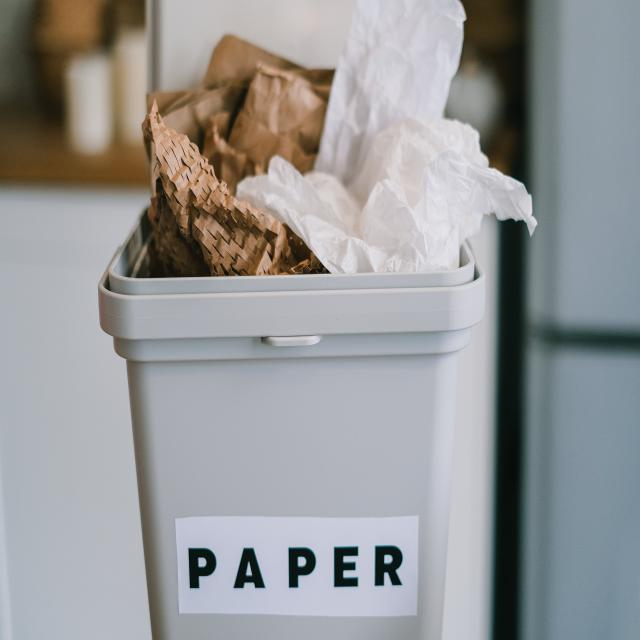paper: (317, 88, 444, 257)
